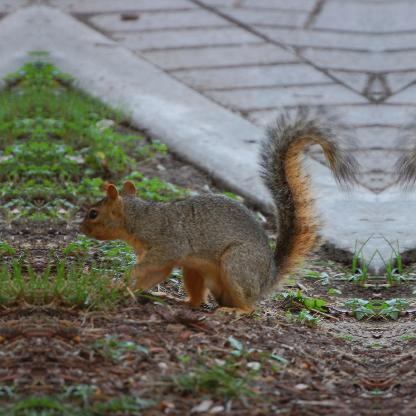Squirrel: (78, 107, 366, 318)
